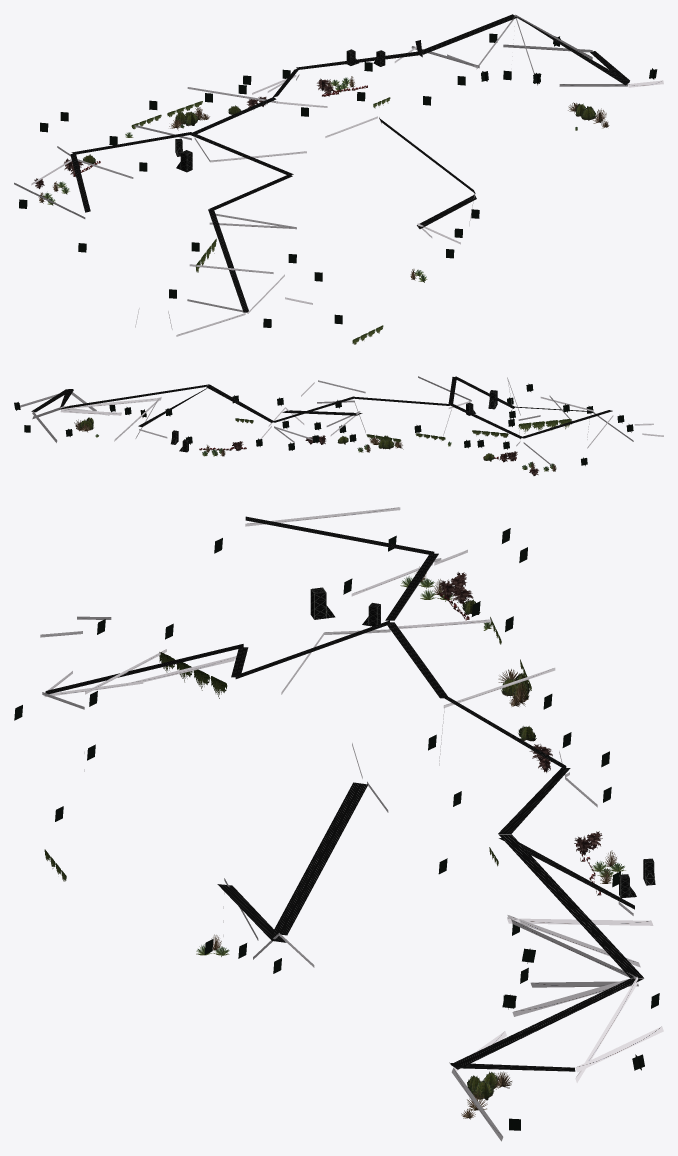
File: laealpha6.obj
3 renders of one model, top to bottom at view 1: azimuth 30°, elevation 25°; view 2: azimuth 150°, elevation 25°; view 3: azimuth 270°, elevation 25°, orthographic. The views are drawn at different scales.
Visible parts, largest first — view 1: LAEalpha6; view 2: LAEalpha6; view 3: LAEalpha6.
Boxes of the visible parts, x1,y1,x2,y2 form: LAEalpha6: (14, 14, 663, 344); LAEalpha6: (14, 376, 663, 475); LAEalpha6: (14, 507, 663, 1141).
Bounding box in the file's own units: 246 × 52.13 × 136.
